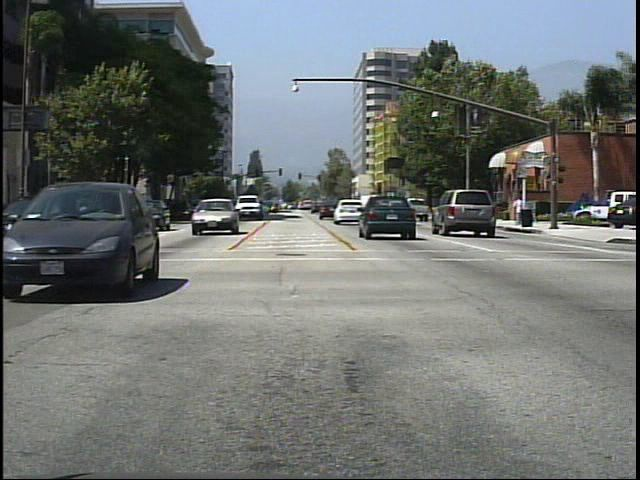person: (478, 190, 496, 225), (511, 195, 524, 228)
